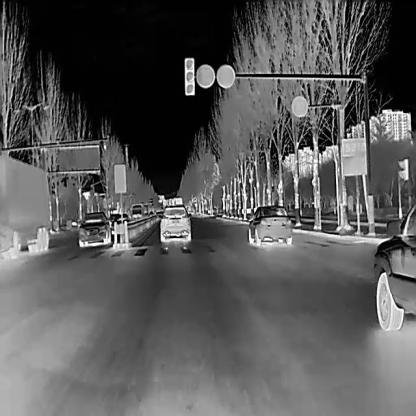car: (370, 195, 416, 331), (246, 203, 291, 245), (157, 202, 191, 242), (77, 209, 110, 247)
truck: (0, 151, 51, 260), (128, 201, 144, 224)
